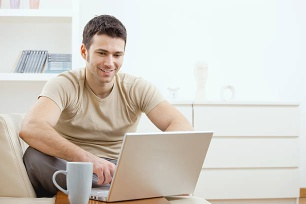male: (80, 17, 128, 87)
